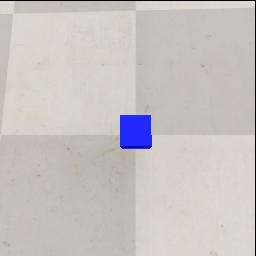box: (120, 115, 152, 149)
